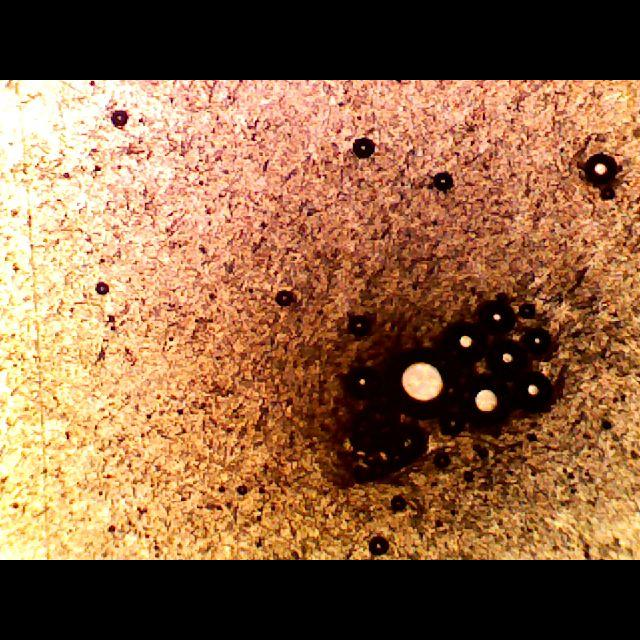microbeads: (459, 376, 511, 428), (396, 361, 444, 402), (516, 371, 552, 409), (487, 342, 527, 376), (479, 301, 515, 335), (524, 328, 552, 356), (347, 315, 373, 339), (365, 534, 391, 558), (275, 288, 295, 308), (518, 302, 536, 320), (458, 334, 472, 348)
